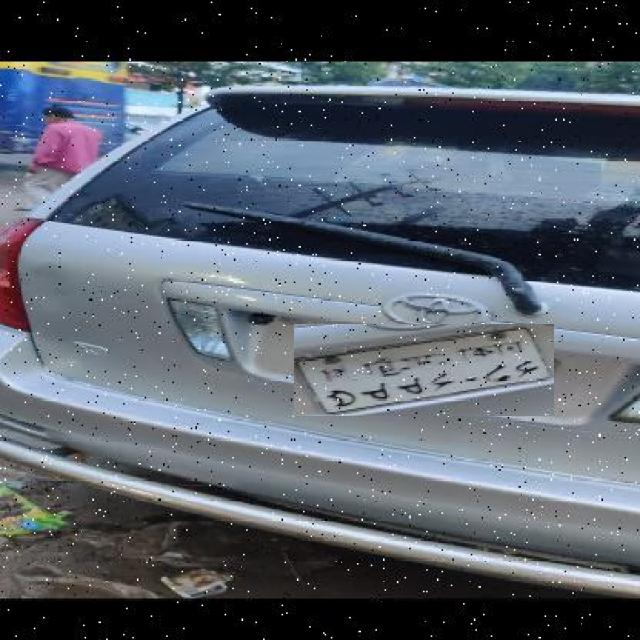numberplate: (294, 324, 554, 416)
